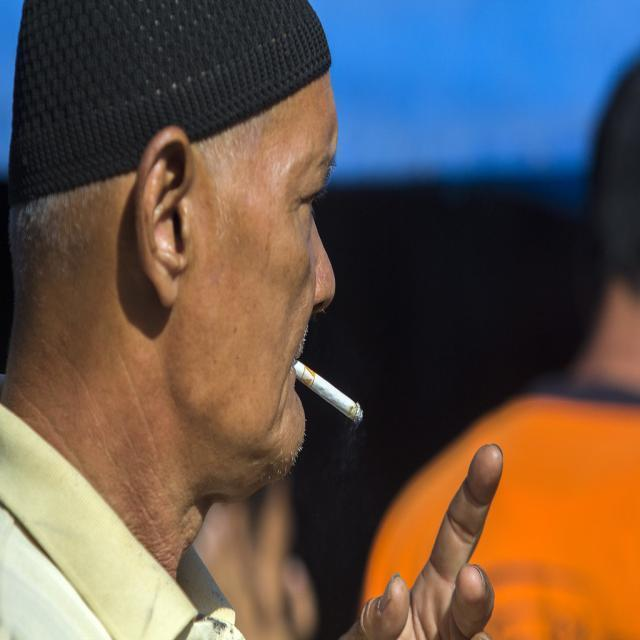rokok: (286, 348, 370, 430)
